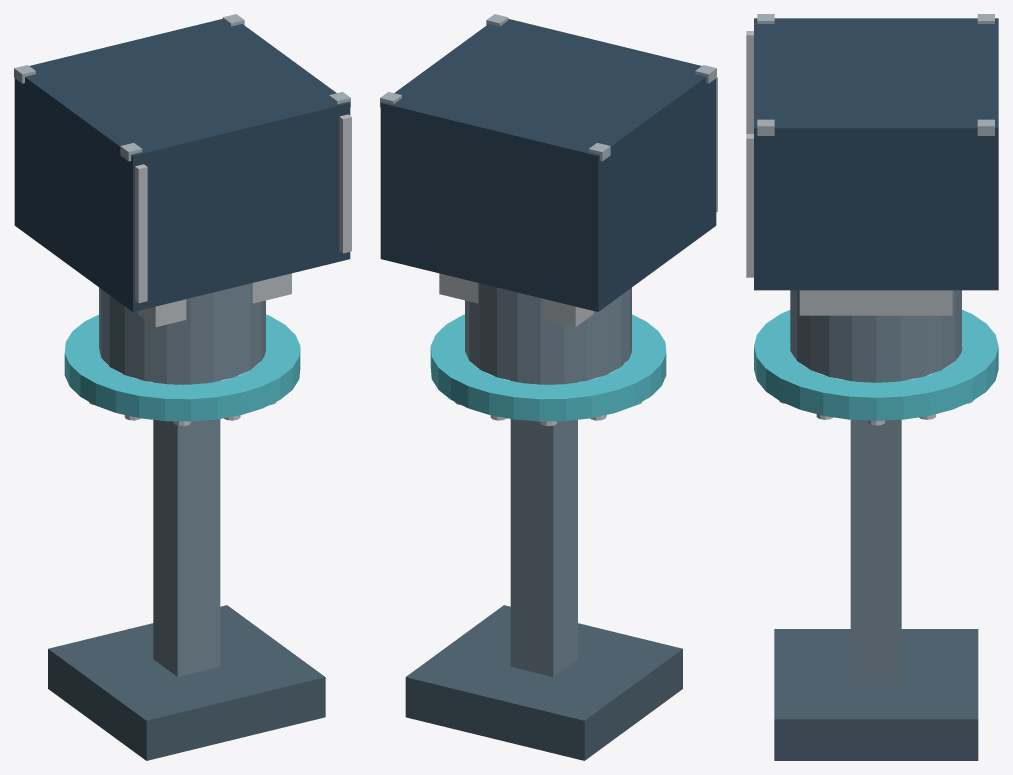
The model's file is 46_L73_WaferDefectInspectionCamera.glb.
The picture shows the model from 3 angles, left to right: view 1: azimuth 30°, elevation 25°; view 2: azimuth 150°, elevation 25°; view 3: azimuth 270°, elevation 25°; orthographic projection. The views are drawn at different scales.
Visible parts, largest first — view 1: WaferDefectInspectionCamera_Node_0003, WaferDefectInspectionCamera_Node_0001, WaferDefectInspectionCamera_Node_0000, WaferDefectInspectionCamera_Node_0010, WaferDefectInspectionCamera_Node_0011, WaferDefectInspectionCamera_Node_0009, WaferDefectInspectionCamera_Node_0008, WaferDefectInspectionCamera_Node_0002; view 2: WaferDefectInspectionCamera_Node_0003, WaferDefectInspectionCamera_Node_0001, WaferDefectInspectionCamera_Node_0000, WaferDefectInspectionCamera_Node_0010, WaferDefectInspectionCamera_Node_0011, WaferDefectInspectionCamera_Node_0002; view 3: WaferDefectInspectionCamera_Node_0003, WaferDefectInspectionCamera_Node_0001, WaferDefectInspectionCamera_Node_0000, WaferDefectInspectionCamera_Node_0011, WaferDefectInspectionCamera_Node_0010, WaferDefectInspectionCamera_Node_0002, WaferDefectInspectionCamera_Node_0009, WaferDefectInspectionCamera_Node_0008.
Boxes of the visible parts, x1,y1,x2,y2 form: WaferDefectInspectionCamera_Node_0003: (14, 19, 350, 311); WaferDefectInspectionCamera_Node_0001: (48, 605, 325, 760); WaferDefectInspectionCamera_Node_0000: (153, 382, 220, 676); WaferDefectInspectionCamera_Node_0010: (99, 283, 265, 384); WaferDefectInspectionCamera_Node_0011: (64, 314, 300, 421); WaferDefectInspectionCamera_Node_0009: (339, 114, 351, 253); WaferDefectInspectionCamera_Node_0008: (135, 164, 147, 303); WaferDefectInspectionCamera_Node_0002: (137, 273, 291, 327); WaferDefectInspectionCamera_Node_0003: (380, 19, 716, 311); WaferDefectInspectionCamera_Node_0001: (405, 605, 682, 760); WaferDefectInspectionCamera_Node_0000: (510, 382, 577, 676); WaferDefectInspectionCamera_Node_0010: (465, 283, 631, 384); WaferDefectInspectionCamera_Node_0011: (430, 314, 666, 421); WaferDefectInspectionCamera_Node_0002: (439, 273, 593, 327); WaferDefectInspectionCamera_Node_0003: (754, 18, 998, 290); WaferDefectInspectionCamera_Node_0001: (774, 629, 978, 760); WaferDefectInspectionCamera_Node_0000: (850, 381, 901, 684); WaferDefectInspectionCamera_Node_0011: (754, 310, 998, 420); WaferDefectInspectionCamera_Node_0010: (790, 290, 961, 382); WaferDefectInspectionCamera_Node_0002: (799, 290, 952, 315); WaferDefectInspectionCamera_Node_0009: (746, 134, 753, 277); WaferDefectInspectionCamera_Node_0008: (746, 31, 753, 133).
Bounding box in the file's own units: 0.5216 × 1.39 × 0.4949.
